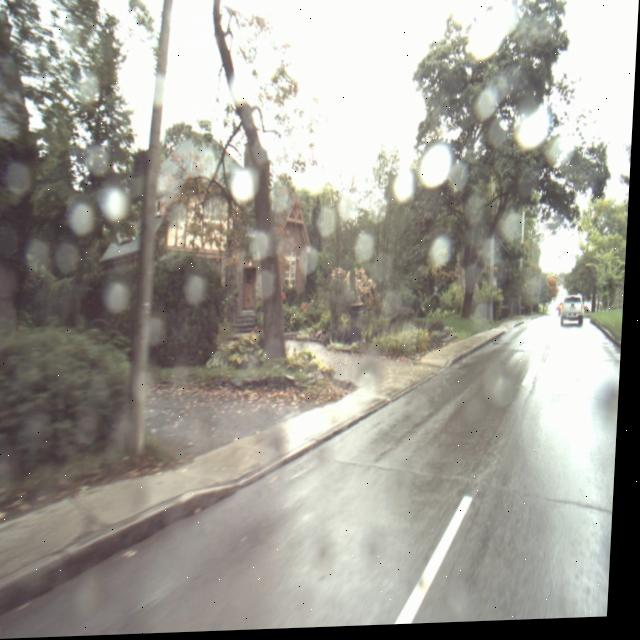car: (562, 299, 590, 333)
